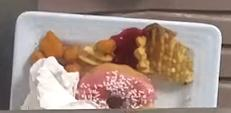carrots: (30, 31, 114, 75)
donut: (79, 65, 155, 108)
fries: (134, 23, 193, 84)
